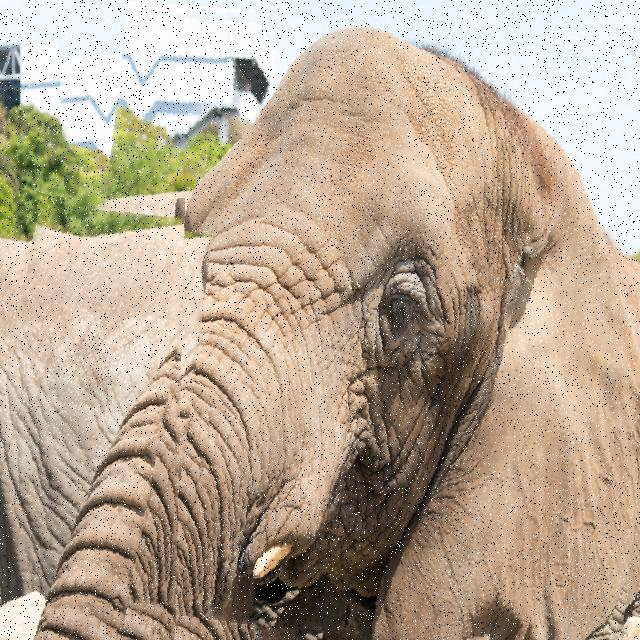elephant: (57, 0, 640, 640), (0, 198, 185, 640)
